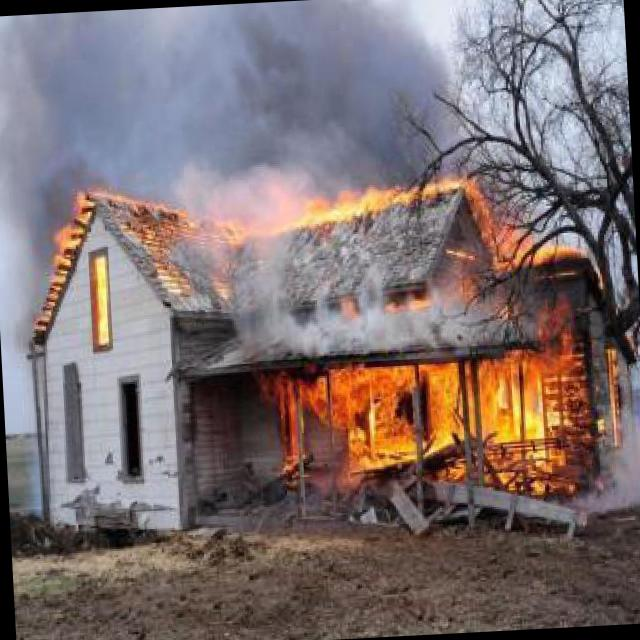Fire: (262, 349, 570, 504), (24, 192, 110, 351), (119, 194, 238, 301), (289, 173, 491, 231)
Smoke: (0, 0, 461, 213)
